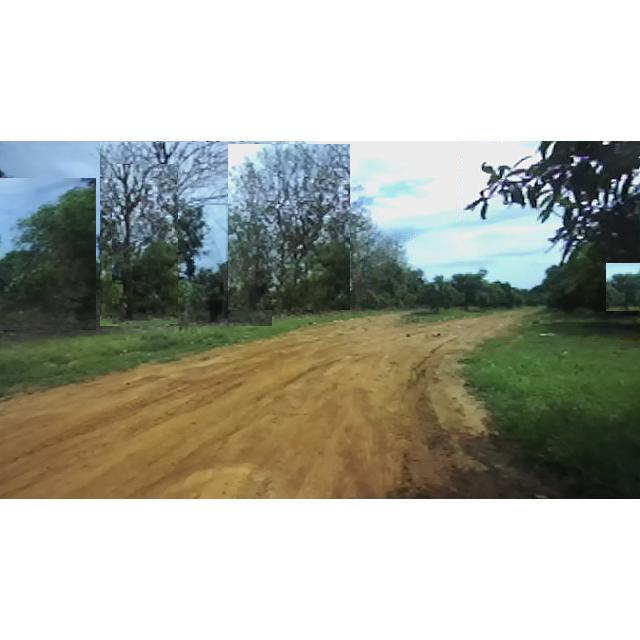direk: (462, 142, 640, 340), (100, 142, 272, 326), (228, 144, 350, 310), (0, 178, 96, 330), (112, 164, 178, 324), (305, 195, 385, 312), (366, 234, 414, 310), (446, 263, 496, 311)
